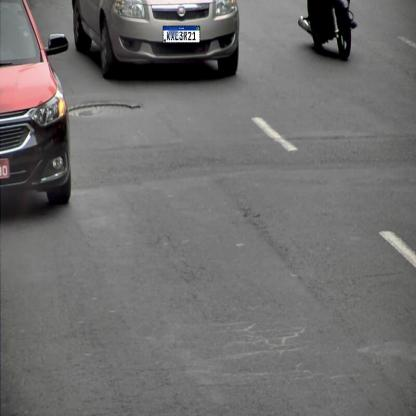PlacaM: (163, 26, 200, 43)
